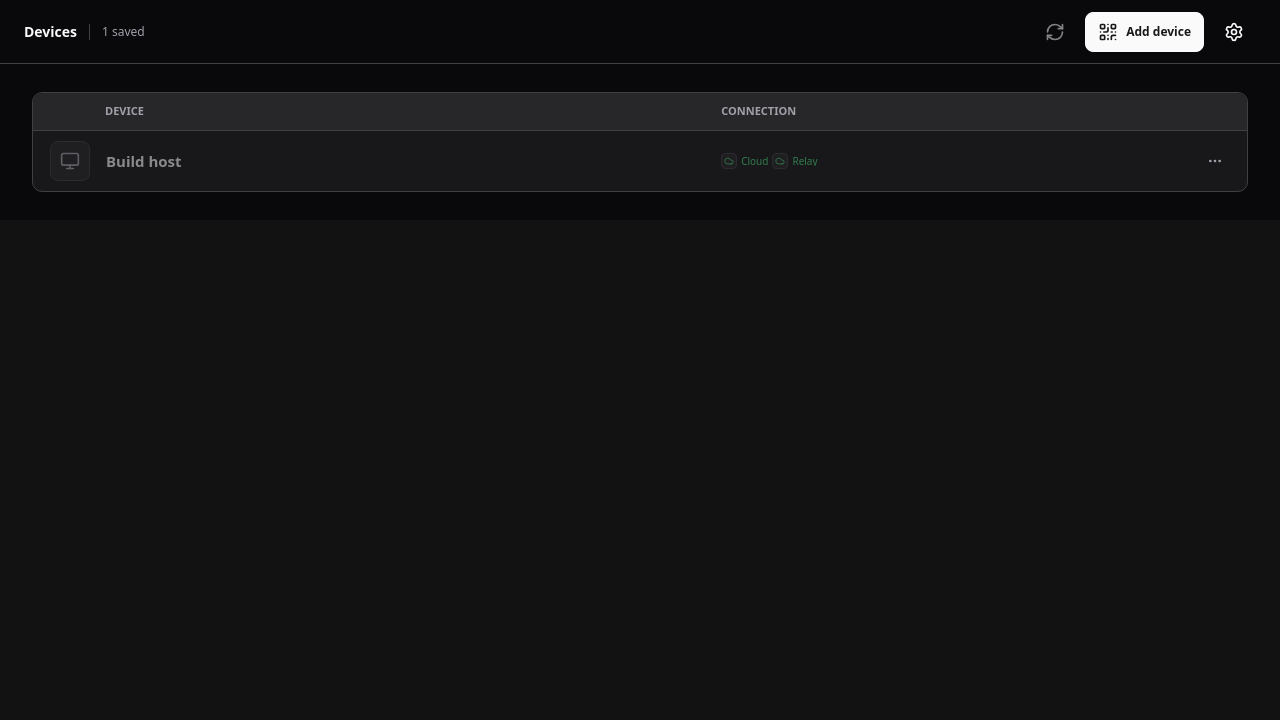
RemoteControlApp native session pool › keeps device truth visible while app recovery pauses remote actions
Expected: the button with aria-label "Open Build host" is disabled, top-left (33, 130), bottom-right (1247, 190)
Expected: the element named "Daemon online on Edge" is shown, top-left (721, 152), bottom-right (768, 168)
Click the button named "More actions for Build host": coordinates (1215, 160) top-left (1195, 140), bottom-right (1235, 180)
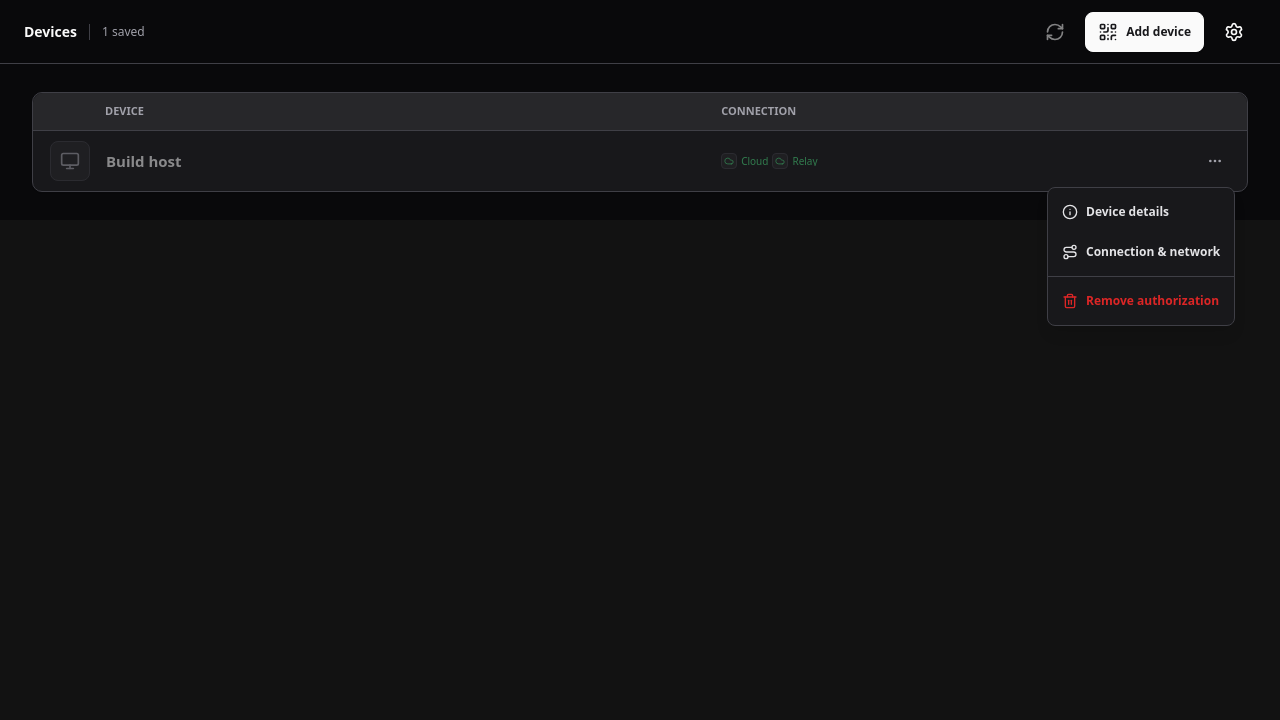
Click the menu item "Device details": coordinates (1116, 212) top-left (1062, 203), bottom-right (1169, 220)
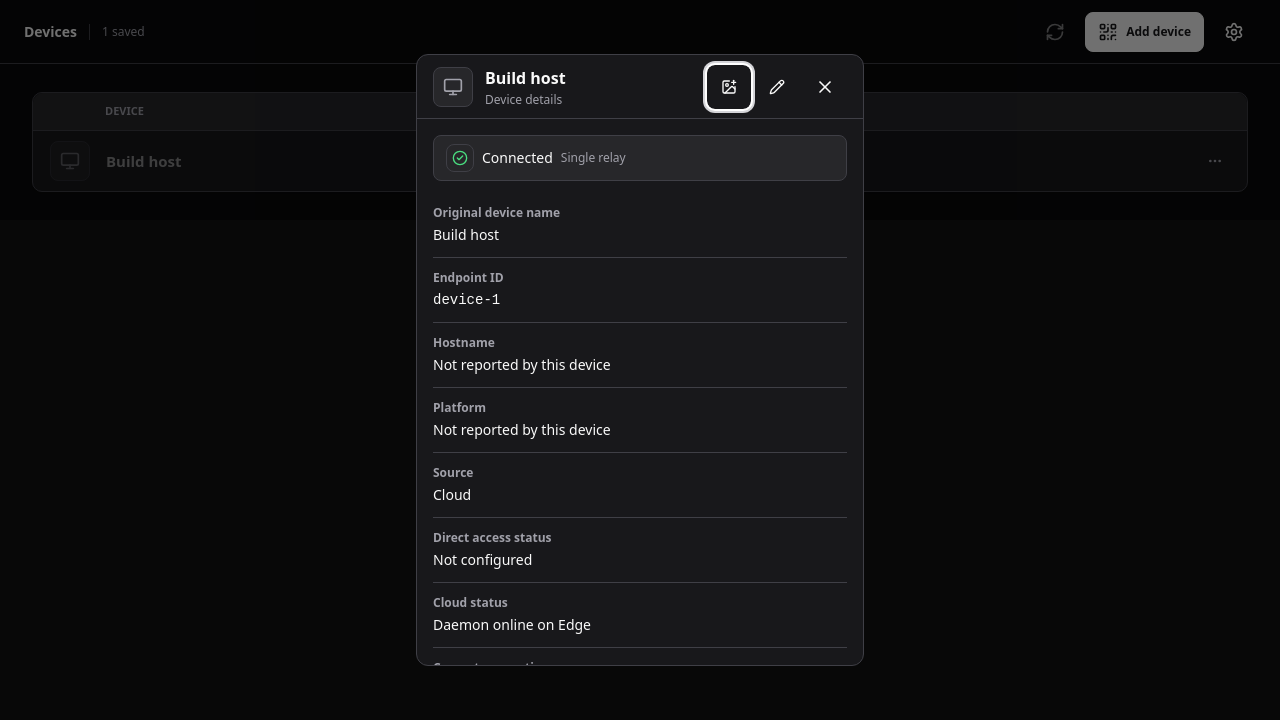
Expected: the dialog "Build host" shows "Connected", top-left (482, 148), bottom-right (553, 167)
Expected: the dialog "Build host" shows "Single relay", top-left (561, 149), bottom-right (626, 166)
